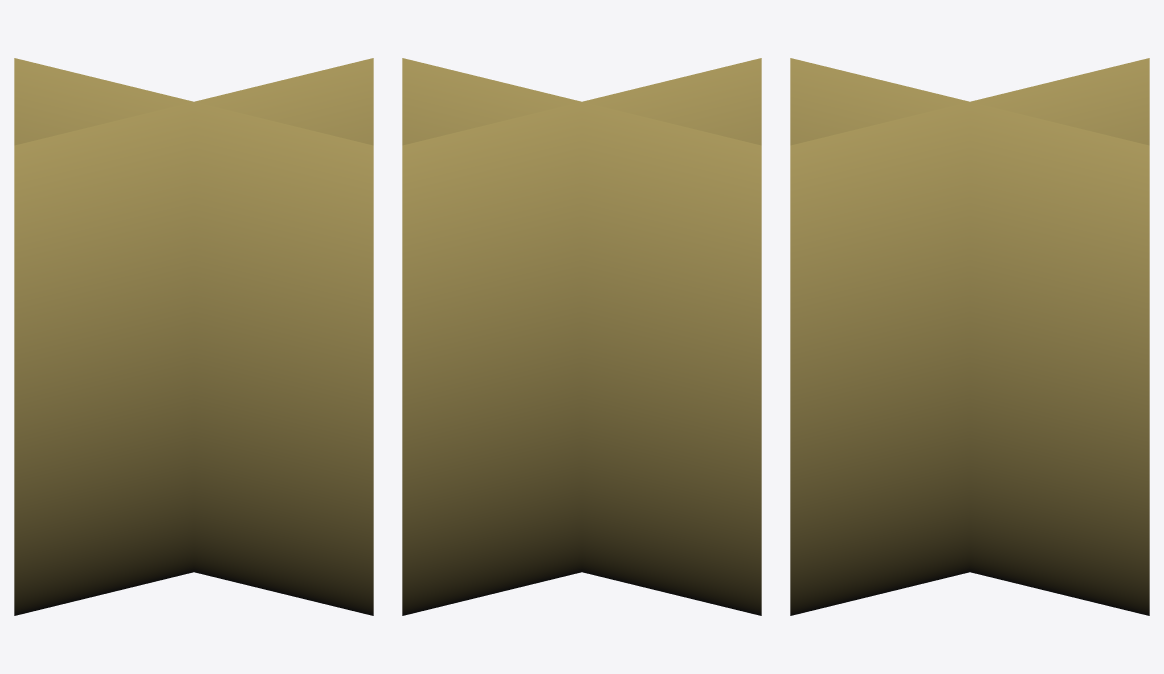
File: grass_star_3card_v6.glb
3 views of the same model, side by side, from view 1: azimuth 30°, elevation 25°; view 2: azimuth 150°, elevation 25°; view 3: azimuth 270°, elevation 25° (orthographic).
Parts seen in each view (by area): view 1: Grass_Star_3Card; view 2: Grass_Star_3Card; view 3: Grass_Star_3Card.
Part boxes in pixels (left/top/right/bottom): Grass_Star_3Card: left=14, top=58, right=373, bottom=615; Grass_Star_3Card: left=402, top=58, right=761, bottom=615; Grass_Star_3Card: left=790, top=58, right=1149, bottom=615.
Bounding box in the file's own units: 0.92 × 1.15 × 0.7967.
Materials: 1 (1 with a texture image).
